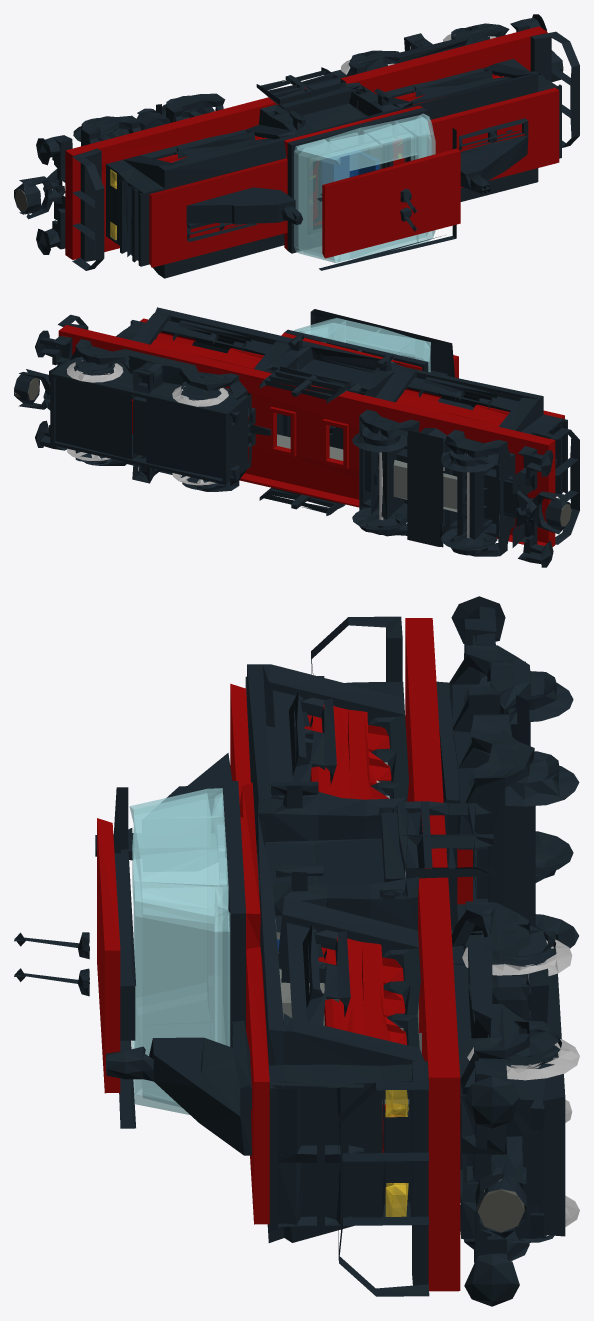
The model's file is locomotive.glb.
3 views of the same model, one above another, from view 1: azimuth 30°, elevation 25°; view 2: azimuth 150°, elevation 25°; view 3: azimuth 270°, elevation 25° (orthographic). The views are drawn at different scales.
Bounding box in the file's own units: 251 × 57.95 × 115.
